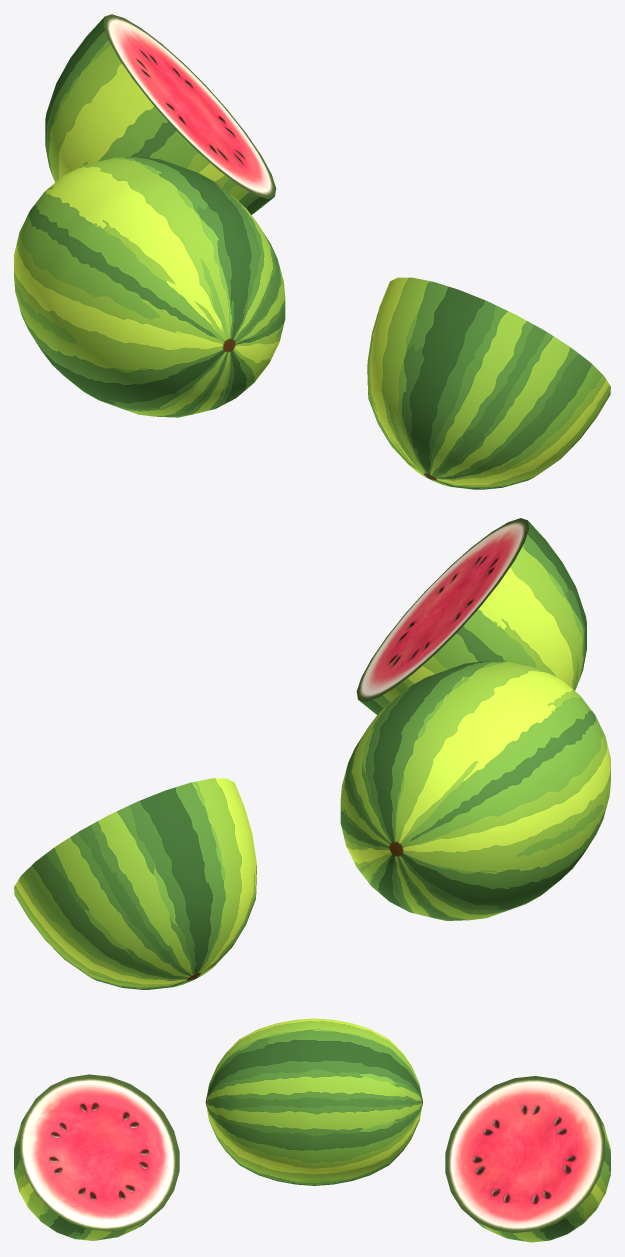
File: watermelon_fruit_3d_model.glb
3 views of the same model, one above another, from view 1: azimuth 30°, elevation 25°; view 2: azimuth 150°, elevation 25°; view 3: azimuth 270°, elevation 25° (orthographic). The views are drawn at different scales.
Visible parts, largest first — view 1: Watermelon_Full, Watermelon_Half_Right, Watermelon_Half_Left; view 2: Watermelon_Full, Watermelon_Half_Left, Watermelon_Half_Right; view 3: Watermelon_Full, Watermelon_Half_Right, Watermelon_Half_Left.
Boxes of the visible parts, <box> form: Watermelon_Full: <box>14,156,285,417</box>; Watermelon_Half_Right: <box>367,277,610,489</box>; Watermelon_Half_Left: <box>45,14,276,214</box>; Watermelon_Full: <box>340,660,610,920</box>; Watermelon_Half_Left: <box>14,778,256,989</box>; Watermelon_Half_Right: <box>356,518,586,714</box>; Watermelon_Full: <box>205,1018,422,1185</box>; Watermelon_Half_Right: <box>14,1074,179,1240</box>; Watermelon_Half_Left: <box>445,1076,610,1242</box>.
Size of the model in its own units: 0.4141 by 0.2313 by 0.8283.
Materials: 1 (1 with a texture image).
